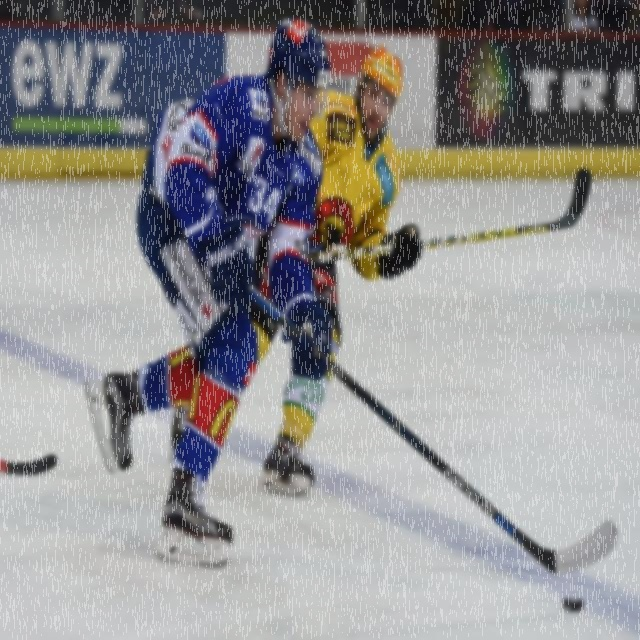pessoa: (82, 10, 347, 580), (169, 42, 424, 502), (570, 0, 600, 35)
